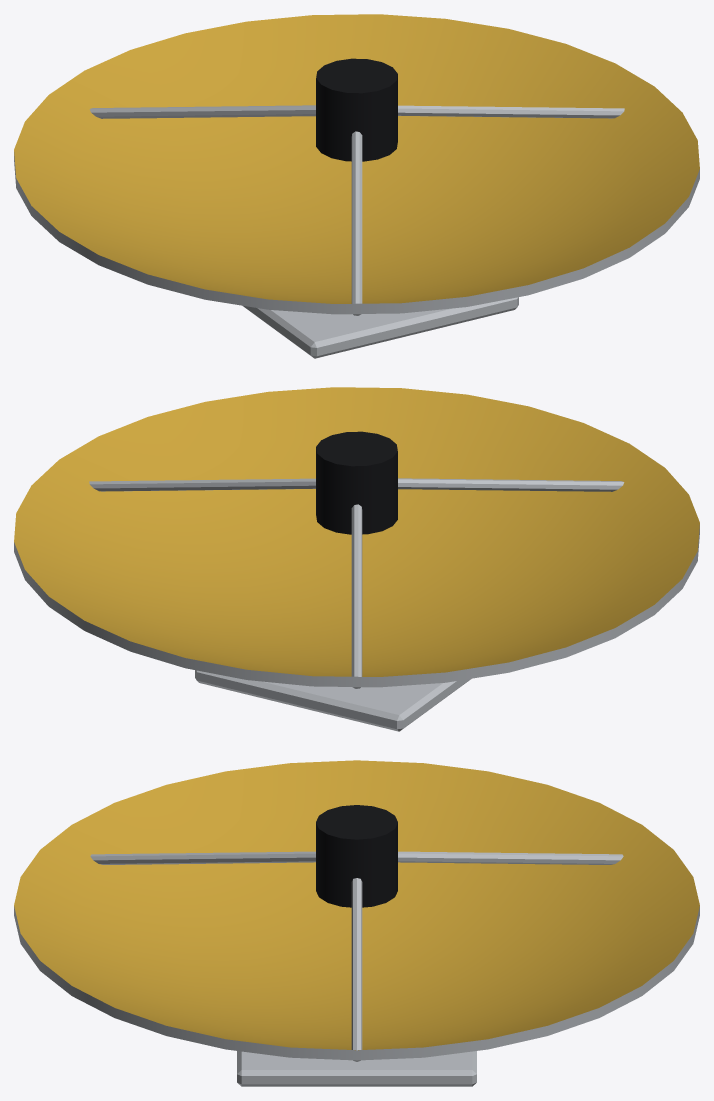
Rendered from com_gd_sdst.glb.
The picture shows the model from 3 angles, top to bottom: view 1: azimuth 30°, elevation 25°; view 2: azimuth 150°, elevation 25°; view 3: azimuth 270°, elevation 25°; orthographic projection.
Visible parts, largest first — view 1: cassegrain_antenna; view 2: cassegrain_antenna; view 3: cassegrain_antenna.
Part boxes in pixels (x1,y1,x2,y2): cassegrain_antenna: (14,14,699,358); cassegrain_antenna: (14,387,699,731); cassegrain_antenna: (14,760,699,1086).
Size of the model in its own units: 0.3 by 0.104 by 0.3.
